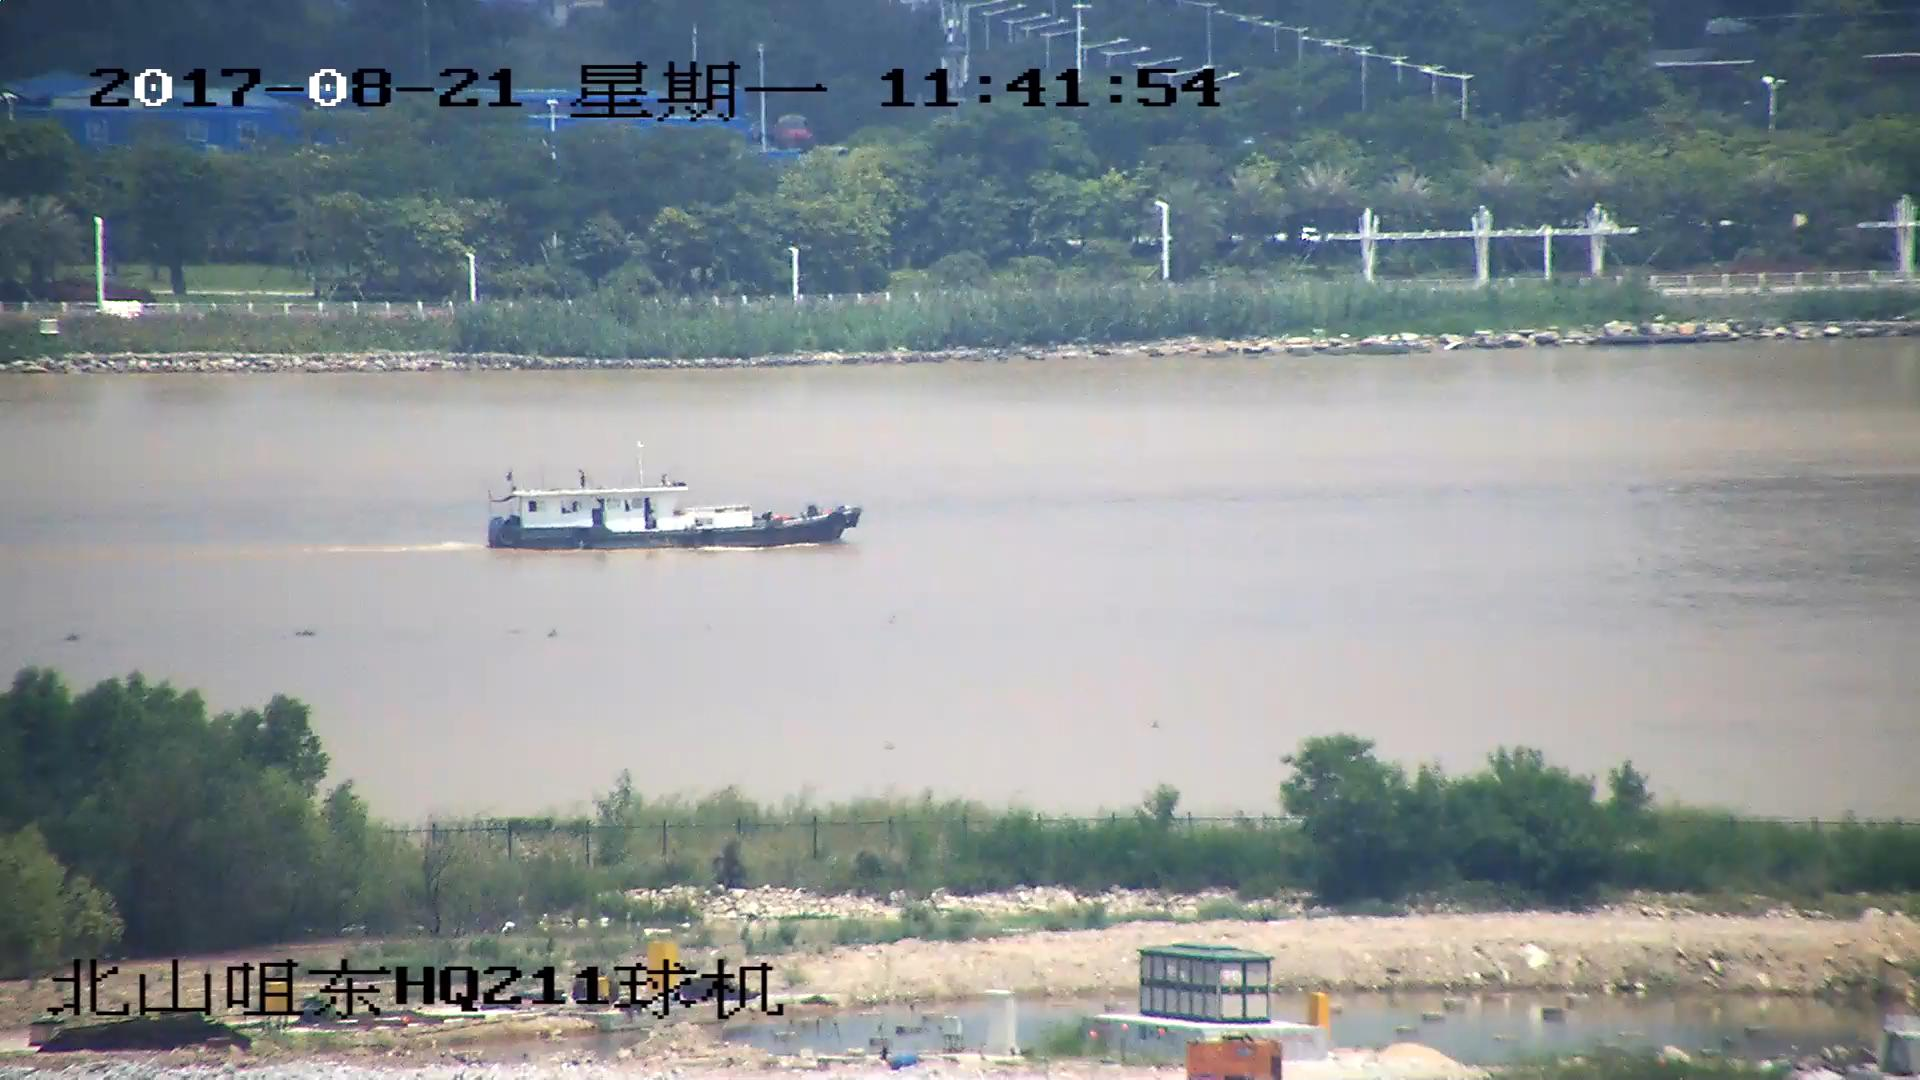fishing boat: (482, 450, 863, 555)
